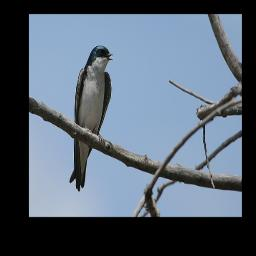Swallow: (69, 46, 114, 192)
